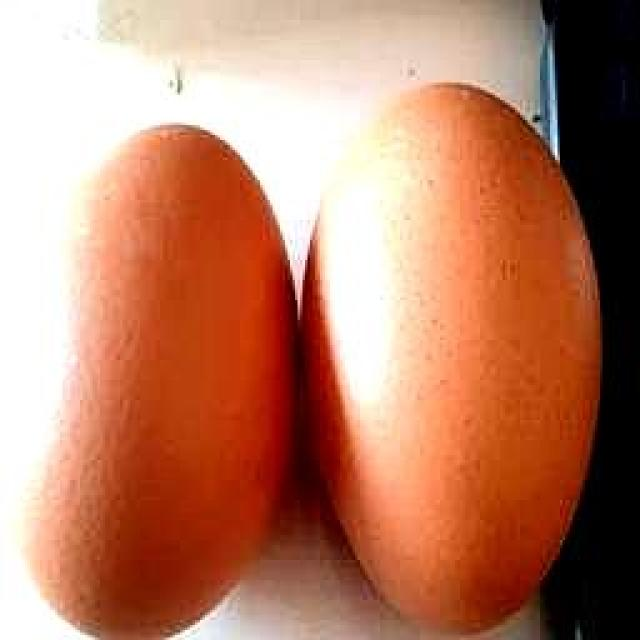Eggs: (299, 80, 601, 638), (15, 122, 298, 639)
